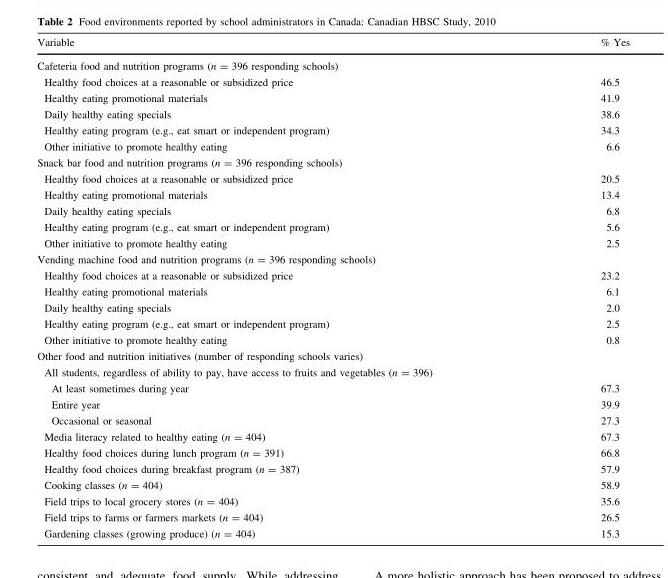table: (36, 37, 629, 538)
table column: (36, 37, 464, 538), (464, 37, 629, 538)
table column header: (36, 37, 629, 54)
table projected row header: (36, 54, 629, 74), (36, 154, 629, 170), (36, 251, 629, 267), (36, 348, 629, 364), (36, 364, 629, 380)
table row: (36, 54, 629, 74), (36, 37, 629, 54), (36, 186, 629, 203), (36, 315, 629, 332), (36, 444, 629, 461), (36, 74, 629, 90), (36, 90, 629, 106), (36, 106, 629, 122), (36, 122, 629, 138), (36, 138, 629, 154), (36, 154, 629, 170), (36, 170, 629, 186), (36, 203, 629, 219), (36, 219, 629, 235), (36, 235, 629, 251), (36, 251, 629, 267), (36, 267, 629, 283), (36, 283, 629, 299), (36, 299, 629, 315), (36, 332, 629, 348), (36, 348, 629, 364), (36, 364, 629, 380), (36, 380, 629, 396), (36, 396, 629, 412), (36, 412, 629, 428), (36, 428, 629, 444), (36, 461, 629, 477), (36, 477, 629, 493), (36, 493, 629, 509), (36, 509, 629, 525), (36, 525, 629, 538)
